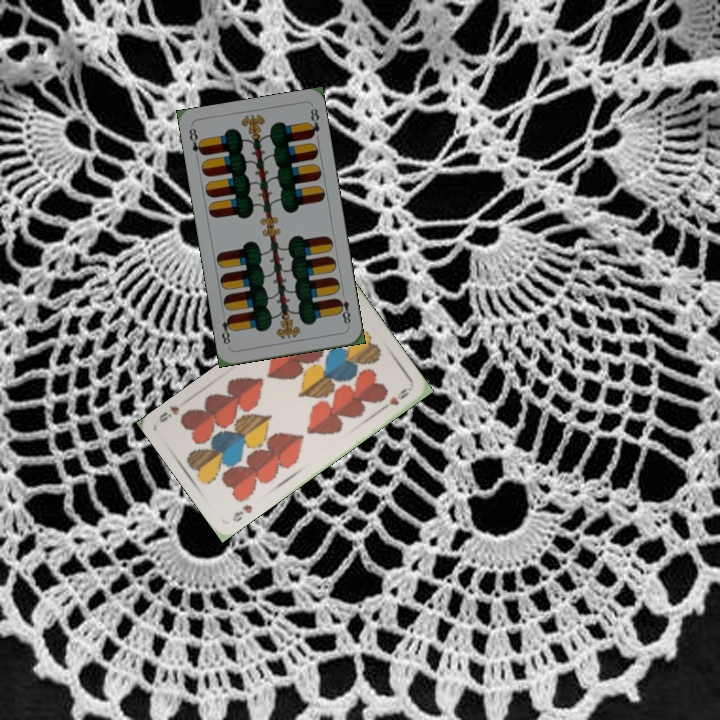E8: (333, 289, 353, 329), (185, 124, 207, 158)
H9: (229, 501, 255, 525)
